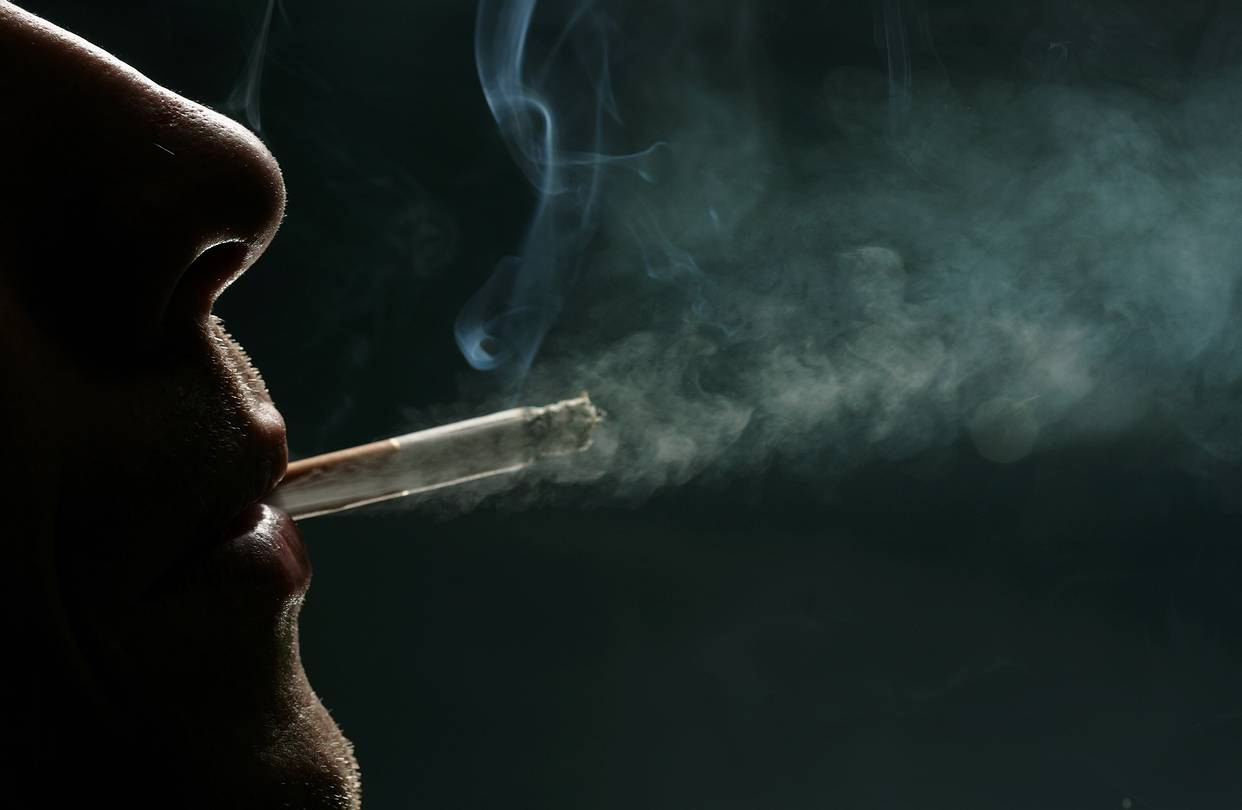cigarette: (216, 361, 720, 524)
